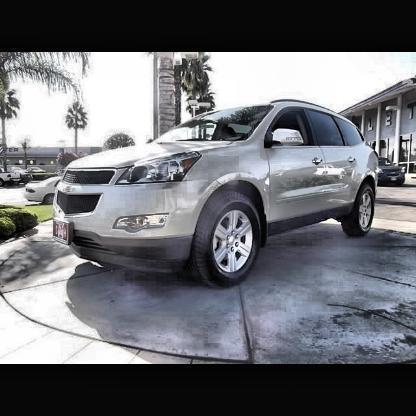Chevrolet Traverse SUV 2012: (52, 101, 380, 283)
